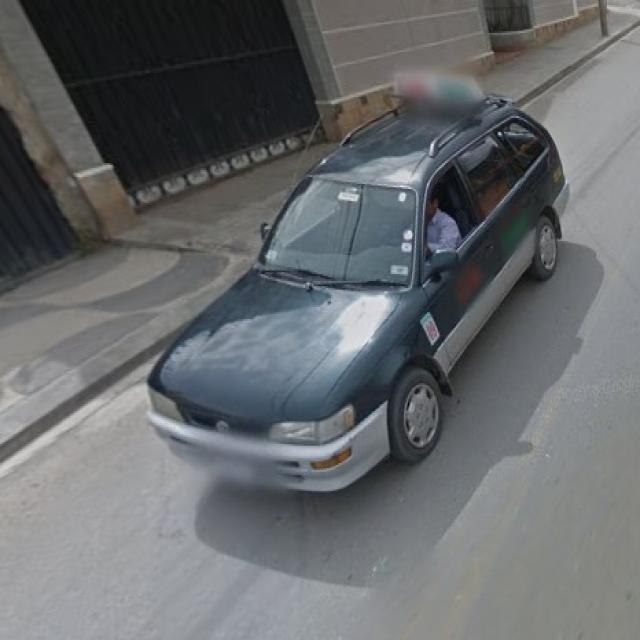cars: (137, 109, 568, 491)
